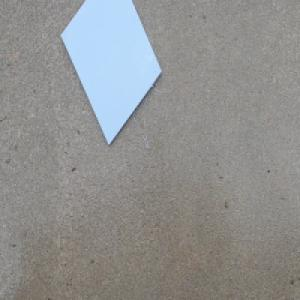PaintChip: (60, 0, 163, 148)
